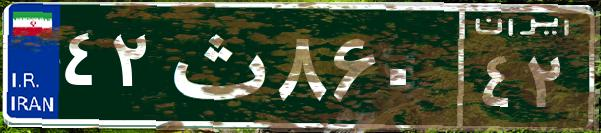0: (385, 28, 445, 110)
2: (110, 28, 158, 105), (525, 38, 570, 115)
4: (57, 26, 110, 107), (475, 38, 525, 113)
6: (330, 28, 385, 110)
8: (273, 28, 330, 110)
ث: (158, 15, 273, 115)
